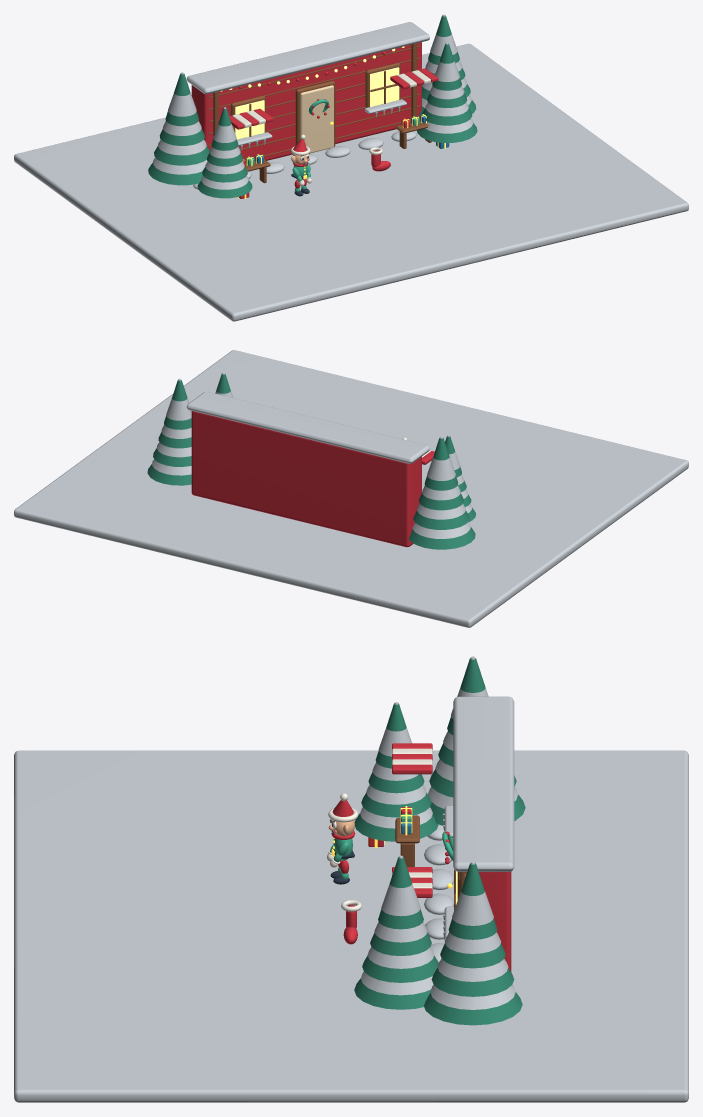
The model's file is chapter-06.glb.
The picture shows the model from 3 angles, top to bottom: view 1: azimuth 30°, elevation 25°; view 2: azimuth 150°, elevation 25°; view 3: azimuth 270°, elevation 25°; orthographic projection. The views are drawn at different scales.
Parts seen in each view (by area): view 1: Schneeboden, Werkstatt, Schneegesims, Wichteltür, Warmes Fenster.001, Tannenzweig.008, Tannenzweig.009, Türrahmen, Tannenzweig.004, Tannenzweig.011, Warmes Fenster, Schnee.011 (+6 smaller); view 2: Schneeboden, Werkstatt, Schneegesims, Tannenzweig.008, Tannenzweig.009, Tannenzweig.011, Schnee.008, Schnee.011, Tannenzweig.015, Tannenzweig.012, Tannenzweig.010, Schnee.009 (+1 smaller); view 3: Schneeboden, Schneegesims, Werkstatt, Tannenzweig.012, Tannenzweig.013, Tannenzweig.015, Schnee.012, Tannenzweig.005, Tannenzweig.004, Schnee.015, Tannenzweig.007, Schnee.013 (+12 smaller).
Boxes of the visible parts, x1,y1,x2,y2 form: Schneeboden: (14,43,688,321); Werkstatt: (191,42,421,162); Schneegesims: (186,22,429,94); Wichteltür: (300,85,333,153); Warmes Fenster.001: (370,67,399,106); Tannenzweig.008: (148,163,202,185); Tannenzweig.009: (154,146,209,165); Türrahmen: (295,81,335,146); Tannenzweig.004: (417,122,477,142); Tannenzweig.011: (165,73,198,126); Warmes Fenster: (235,100,264,139); Schnee.011: (168,72,196,116); Schneeboden: (14,350,688,627); Werkstatt: (191,411,421,547); Schneegesims: (186,391,429,463); Tannenzweig.008: (408,527,475,549); Tannenzweig.009: (413,510,469,529); Tannenzweig.011: (424,437,458,490); Schnee.008: (412,522,470,538); Schnee.011: (427,436,455,480); Tannenzweig.015: (164,380,191,429); Tannenzweig.012: (147,464,191,485); Tannenzweig.010: (419,493,463,510); Schnee.009: (417,504,465,519); Schneeboden: (14,750,688,1102); Schneegesims: (453,696,514,871); Werkstatt: (466,871,511,971); Tannenzweig.012: (424,992,522,1025); Tannenzweig.013: (431,968,514,996); Tannenzweig.015: (448,863,497,939); Schnee.012: (430,985,515,1009); Tannenzweig.005: (362,955,438,982); Tannenzweig.004: (354,978,430,1009); Schnee.015: (452,861,493,925); Tannenzweig.007: (378,857,423,929); Schnee.013: (437,959,508,981).
Bounding box in the file's own units: 18 × 4.39 × 15.
